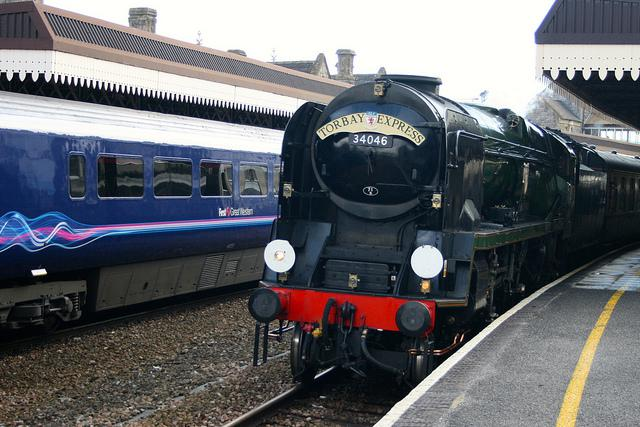Train: (253, 70, 640, 396), (2, 88, 277, 334)
